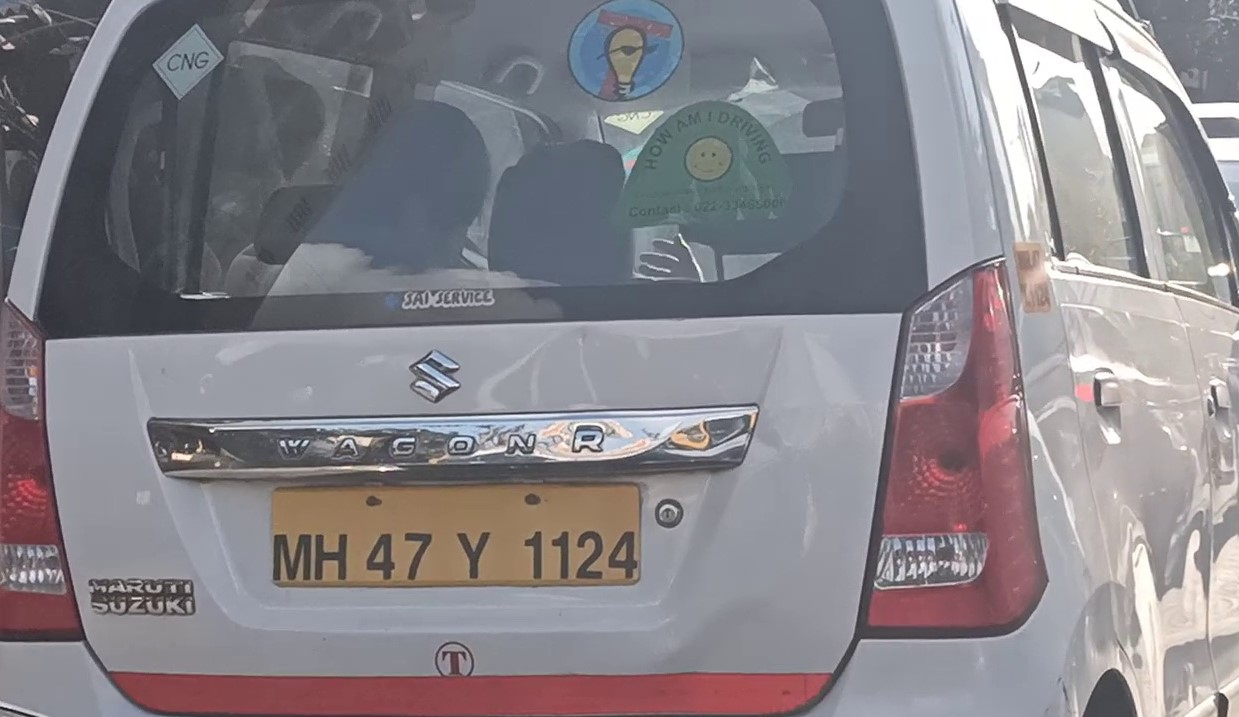MH47Y1124: (268, 487, 640, 582)
